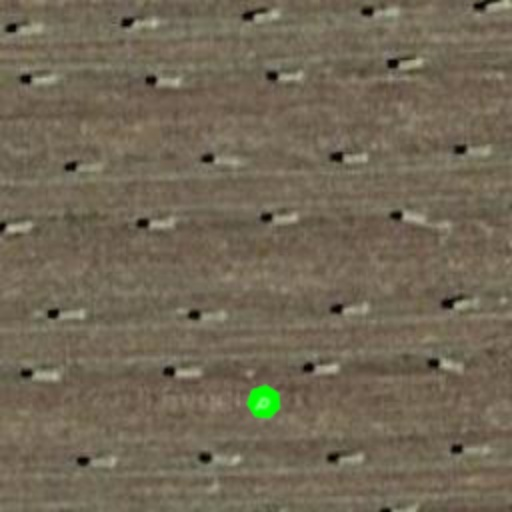heptagon: (240, 378, 288, 426)
